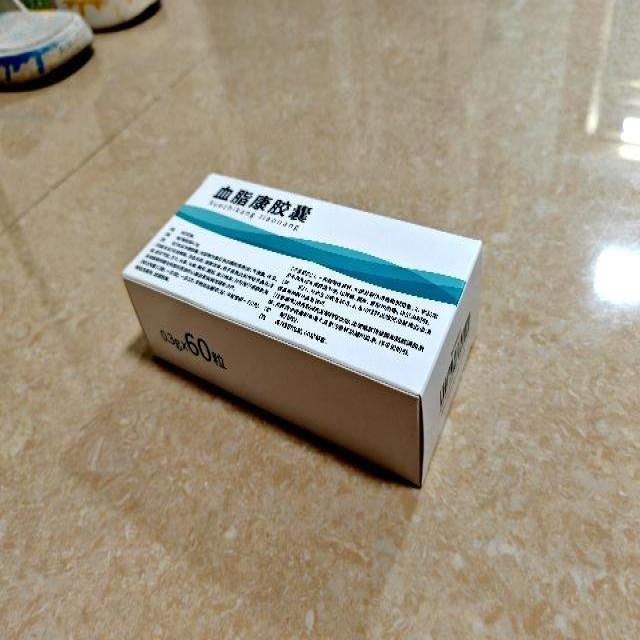box: (121, 171, 483, 485)
